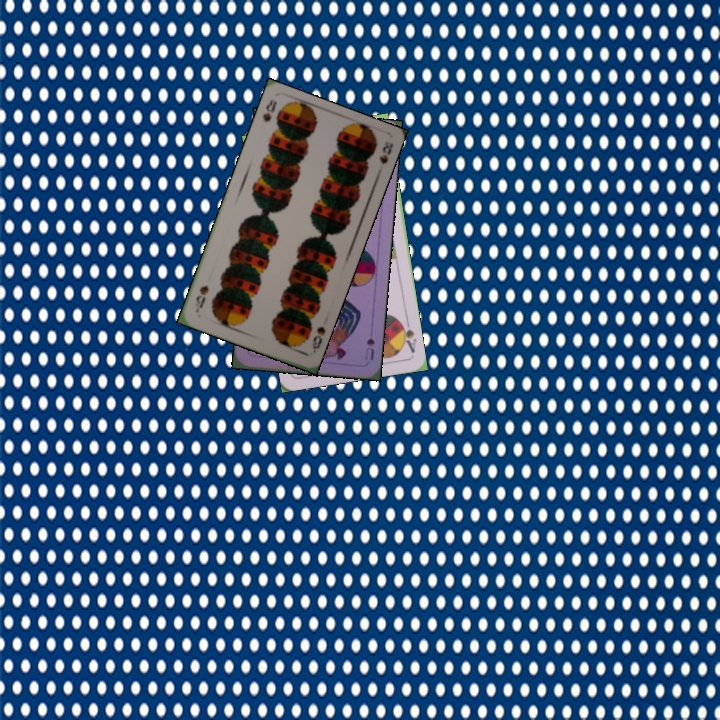S8: (308, 322, 328, 356), (258, 96, 279, 124)
SA: (396, 315, 419, 355)
SU: (361, 334, 377, 363)
